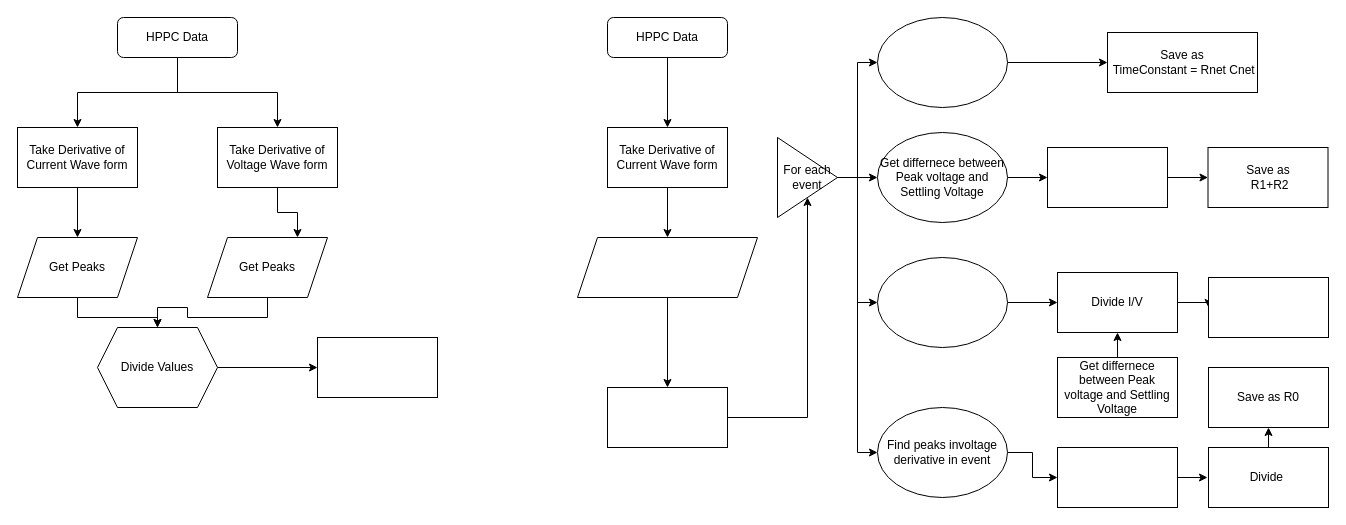
The diagram is 1346 pixels wide and 525 high, and some of its shapes have lost their labels. The centre of each missing label's shape, as x and y in pixels:
"Calculate Mean and Save as R0" belongs at point 377,367.
"Divide by Change in Current" belongs at point 1107,177.
"Find Settling time of Voltage for each event" belongs at point 942,62.
"Integrate Current in the Event until settle down voltage in event" belongs at point 942,302.
"Match delay with near current derivative peaks" belongs at point 1117,477.
"Pair two consecutive peak positions" belongs at point 667,267.
"Save as Cb (Polarisation Capacitance" belongs at point 1268,307.
"Save this as an event" belongs at point 667,417.
